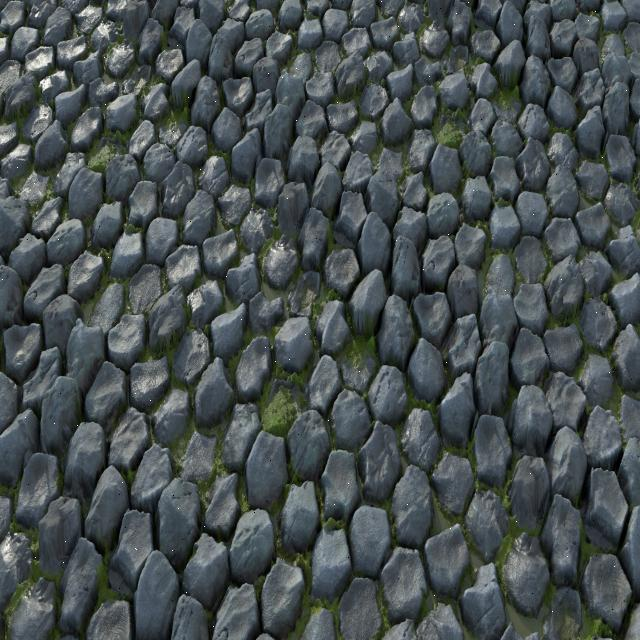Igneous: (0, 1, 637, 634)
